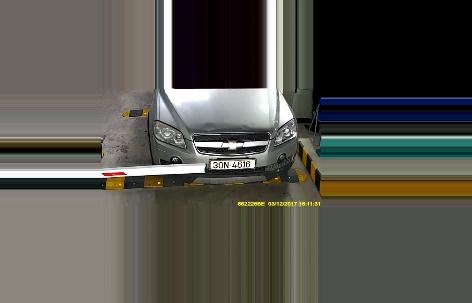plate: (207, 157, 258, 169)
